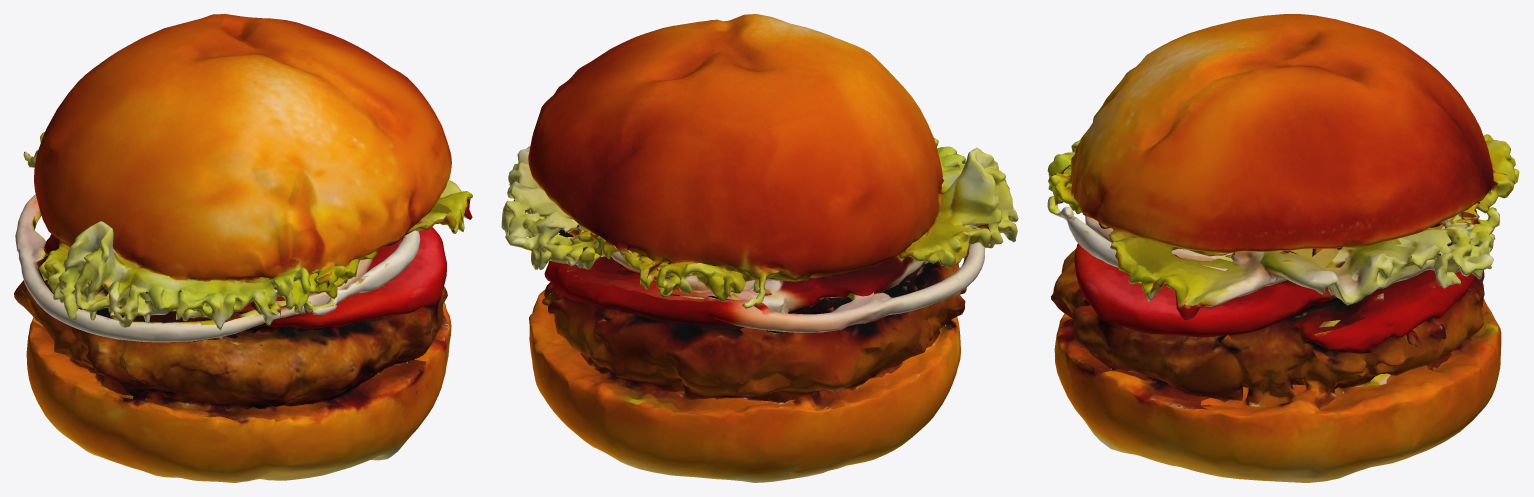
The model's file is poly burge.glb.
The picture shows the model from 3 angles, left to right: view 1: azimuth 30°, elevation 25°; view 2: azimuth 150°, elevation 25°; view 3: azimuth 270°, elevation 25°; orthographic projection. The views are drawn at different scales.
Parts seen in each view (by area): view 1: tmp1ckoic33.ply_0; view 2: tmp1ckoic33.ply_0; view 3: tmp1ckoic33.ply_0.
Boxes of the visible parts, x1=… form: tmp1ckoic33.ply_0: x1=14, y1=14, x2=472, y2=482; tmp1ckoic33.ply_0: x1=501, y1=14, x2=1018, y2=482; tmp1ckoic33.ply_0: x1=1047, y1=14, x2=1519, y2=482.
Bounding box in the file's own units: 3.32 × 2.77 × 3.15.
Materials: 2 (2 with a texture image).
